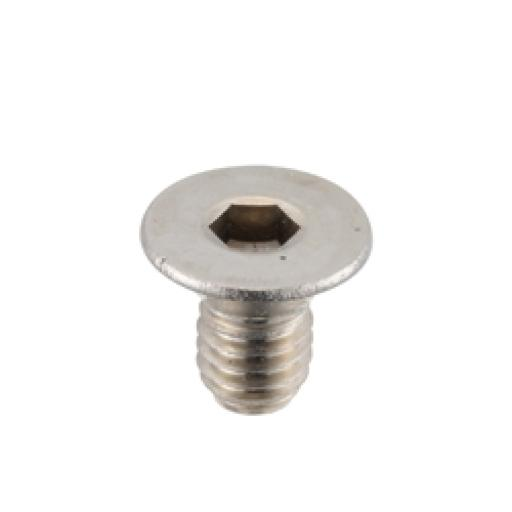Hex-Allen: (141, 161, 378, 301)
